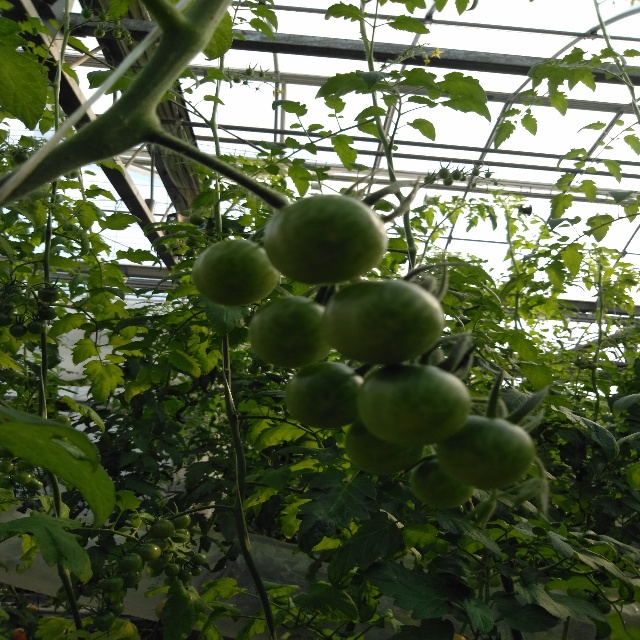l_green: (263, 194, 389, 286), (321, 278, 443, 365), (357, 362, 473, 448), (438, 415, 534, 490), (190, 238, 282, 307), (248, 296, 333, 369), (284, 362, 364, 428), (344, 417, 426, 476), (409, 452, 474, 511), (149, 520, 175, 540), (93, 611, 115, 633), (137, 542, 162, 561), (118, 552, 143, 571), (37, 286, 61, 304), (101, 576, 124, 593), (169, 513, 191, 529), (27, 319, 46, 334), (38, 307, 58, 321), (170, 529, 190, 543), (14, 471, 32, 485), (188, 212, 205, 226), (26, 477, 43, 491), (164, 563, 181, 577), (9, 324, 27, 337), (191, 553, 209, 566), (0, 460, 13, 473)
